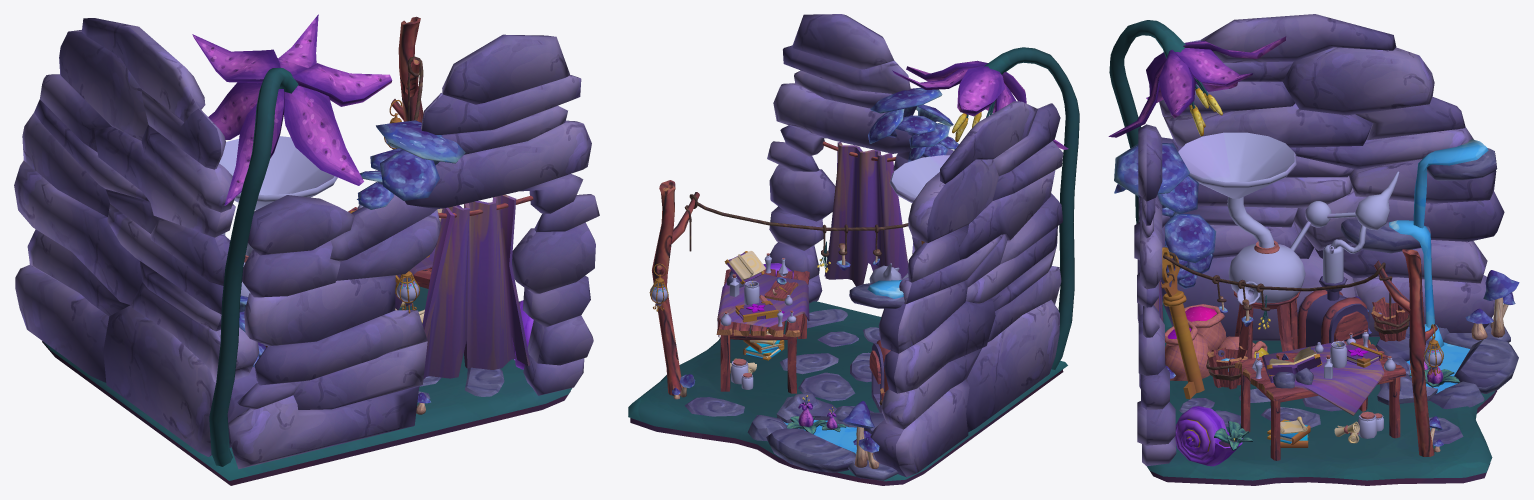
File: finalassignment.fbx
The picture shows the model from 3 angles, left to right: view 1: azimuth 30°, elevation 25°; view 2: azimuth 150°, elevation 25°; view 3: azimuth 270°, elevation 25°; orthographic projection. The views are drawn at different scales.
Visible parts, largest first — view 1: Environment_Walls, Environment_Flower, Environment_Curtain, Environment_Ground, Prop_Stonemushroom.001, Prop_PotionFurnance, Prop_DryingRack, Environment_Waterfall, Prop_Lamp_1, Prop_Desk; view 2: Environment_Walls, Environment_Ground, Environment_Waterfall, Environment_Flower, Environment_Curtain, Prop_Desk, Prop_DryingRack, Prop_Stonemushroom.001, Prop_PotionFurnance, Prop_Mushrooms_1, Prop_Plants, Prop_SpellBook (+2 smaller); view 3: Environment_Walls, Environment_Ground, Prop_PotionFurnance, Environment_Waterfall, Environment_Flower, Prop_Desk, Prop_DryingRack, Prop_Stonemushroom.001, Prop_Sacks, Prop_Stonemushroom.002, Prop_Snail, Prop_Key (+9 smaller).
Boxes of the visible parts, x1,y1,x2,y2 form: Environment_Walls: (14,18,599,469); Environment_Flower: (192,14,392,466); Environment_Curtain: (422,194,533,379); Environment_Ground: (42,286,572,485); Prop_Stonemushroom.001: (357,120,465,209); Prop_PotionFurnance: (219,136,337,347); Prop_DryingRack: (391,16,423,122); Environment_Waterfall: (264,345,504,402); Prop_Lamp_1: (395,271,419,313); Prop_Desk: (348,207,435,310); Environment_Walls: (767,14,1063,477); Environment_Ground: (628,301,1067,485); Environment_Waterfall: (685,280,904,480); Environment_Flower: (892,47,1079,369); Environment_Curtain: (822,141,908,286); Prop_Desk: (716,269,809,393); Prop_DryingRack: (652,180,908,395); Prop_Stonemushroom.001: (868,87,958,162); Prop_PotionFurnance: (869,155,950,412); Prop_Mushrooms_1: (842,401,879,468); Prop_Plants: (786,241,845,434); Prop_SpellBook: (724,251,765,284); Environment_Walls: (1134,14,1504,466); Environment_Ground: (1147,326,1497,485); Prop_PotionFurnance: (1178,132,1399,359); Environment_Waterfall: (1179,139,1518,443); Environment_Flower: (1108,20,1286,327); Prop_Desk: (1235,338,1406,460); Prop_DryingRack: (1163,249,1437,456); Prop_Stonemushroom.001: (1114,143,1198,217); Prop_Sacks: (1165,304,1268,380); Prop_Stonemushroom.002: (1165,213,1216,288); Prop_Snail: (1175,406,1242,466); Prop_Key: (1161,247,1204,399).
Bounding box in the file's own units: 58.55 × 57.36 × 63.86.
